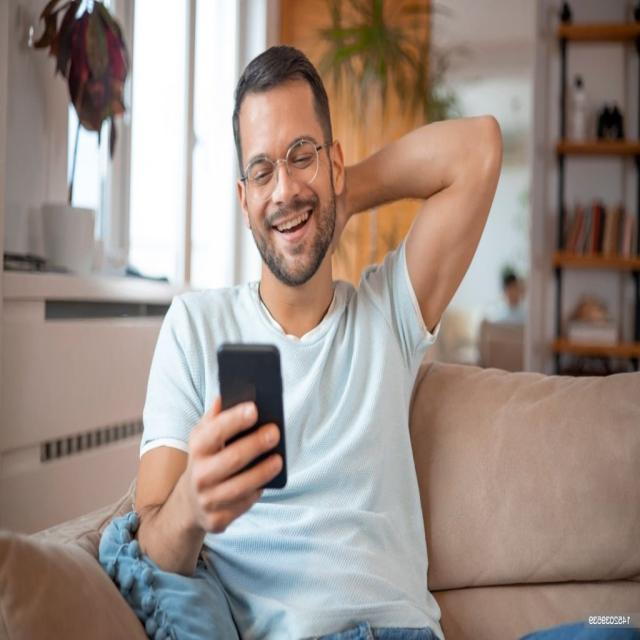phone: (217, 338, 287, 494)
